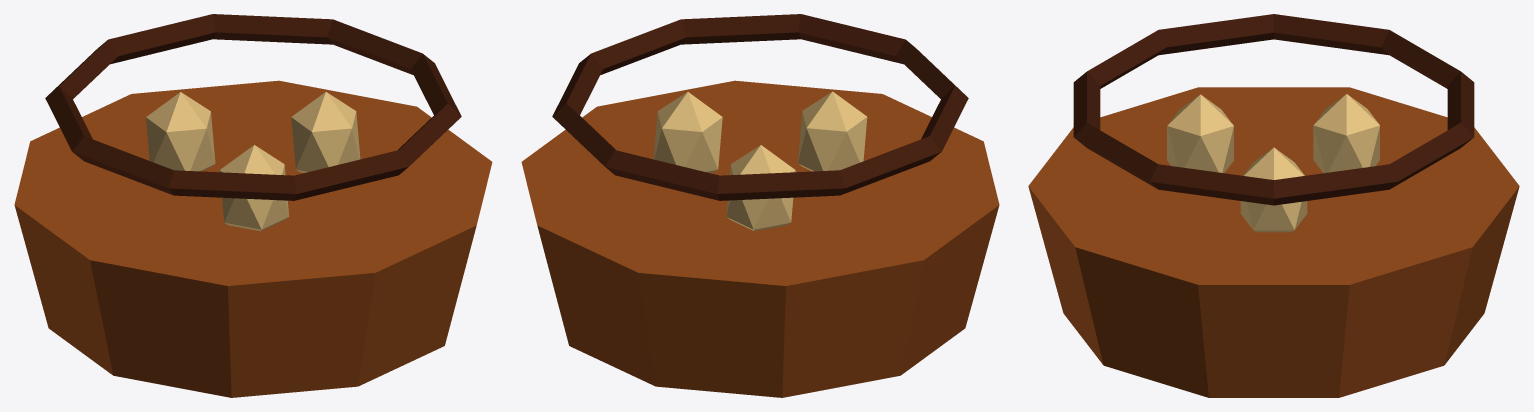
Rendered from egg_basket.obj.
3 views of the same model, side by side, from view 1: azimuth 30°, elevation 25°; view 2: azimuth 150°, elevation 25°; view 3: azimuth 270°, elevation 25° (orthographic).
Visible parts, largest first — view 1: egg_basket; view 2: egg_basket; view 3: egg_basket.
Boxes of the visible parts, left/top/right/bottom form: egg_basket: left=14, top=14, right=492, bottom=397; egg_basket: left=521, top=14, right=999, bottom=397; egg_basket: left=1028, top=14, right=1519, bottom=397.
Bounding box in the file's own units: 0.6657 × 0.34 × 0.7.
